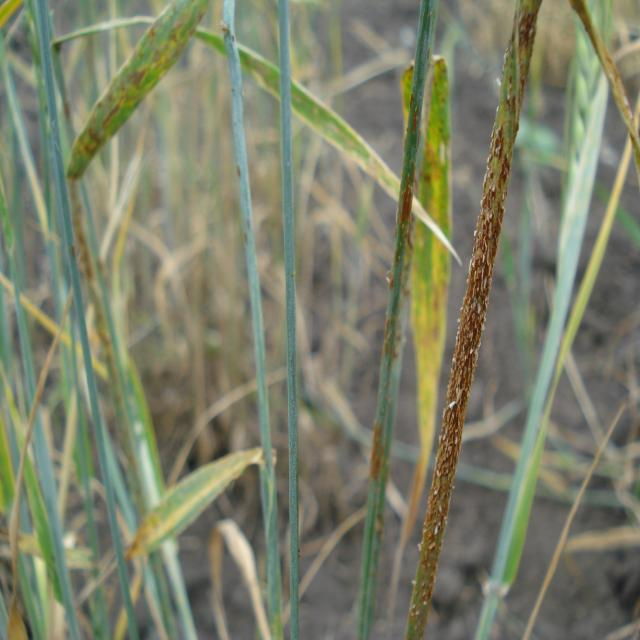wheat-stemrust: (405, 0, 543, 640), (355, 0, 439, 640), (64, 0, 209, 180)
